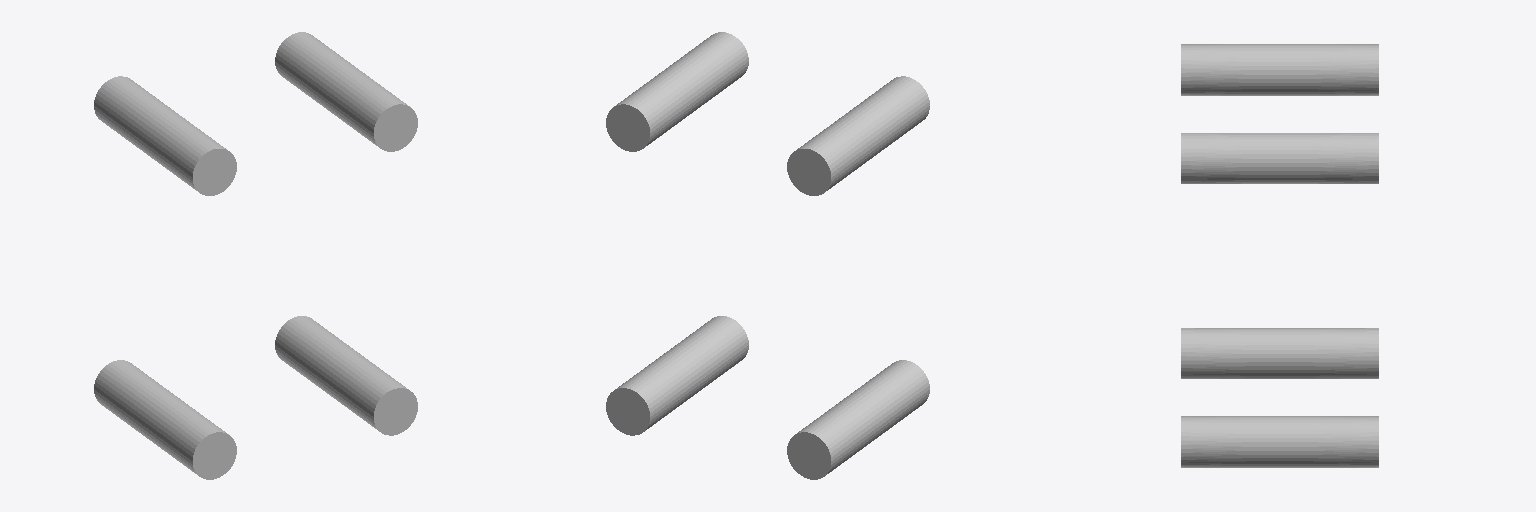
The model's file is fixture_cutouts.obj.
The picture shows the model from 3 angles: view 1: azimuth 30°, elevation 25°; view 2: azimuth 150°, elevation 25°; view 3: azimuth 270°, elevation 25°; orthographic projection.
Visible parts, largest first — view 1: Body1, Body4, Body2, Body3; view 2: Body1, Body4, Body2, Body3; view 3: Body1, Body4, Body2, Body3.
Boxes of the visible parts, x1=… form: Body1: x1=275, y1=316, x2=417, y2=435; Body4: x1=94, y1=76, x2=236, y2=195; Body2: x1=275, y1=32, x2=417, y2=151; Body3: x1=94, y1=360, x2=236, y2=479; Body1: x1=606, y1=316, x2=748, y2=435; Body4: x1=787, y1=76, x2=929, y2=195; Body2: x1=606, y1=32, x2=748, y2=151; Body3: x1=787, y1=360, x2=929, y2=479; Body1: x1=1181, y1=416, x2=1378, y2=467; Body4: x1=1181, y1=44, x2=1378, y2=95; Body2: x1=1181, y1=133, x2=1378, y2=183; Body3: x1=1181, y1=328, x2=1378, y2=378.
Bounding box in the file's own units: 19.8 × 27.7 × 15.